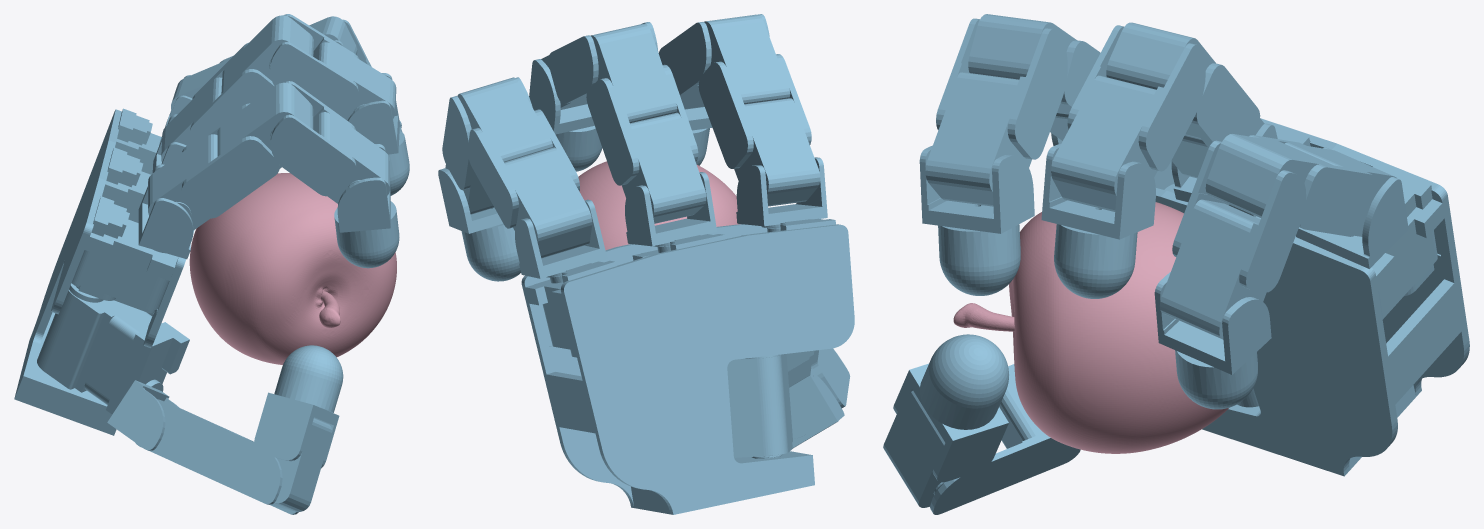
3 renders of one model, left to right at view 1: azimuth 30°, elevation 25°; view 2: azimuth 150°, elevation 25°; view 3: azimuth 270°, elevation 25°, orthographic. The views are drawn at different scales.
Parts seen in each view (by area): view 1: world; view 2: world; view 3: world.
Boxes of the visible parts, bbox=[...] form: world: bbox=[14, 14, 409, 514]; world: bbox=[438, 14, 854, 514]; world: bbox=[883, 14, 1469, 514].
Bounding box in the file's own units: 0.1651 × 0.1723 × 0.1728.
